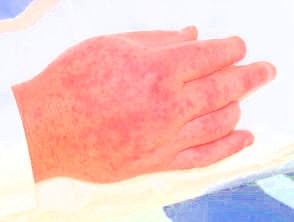SJS-TEN: (49, 28, 278, 182)
